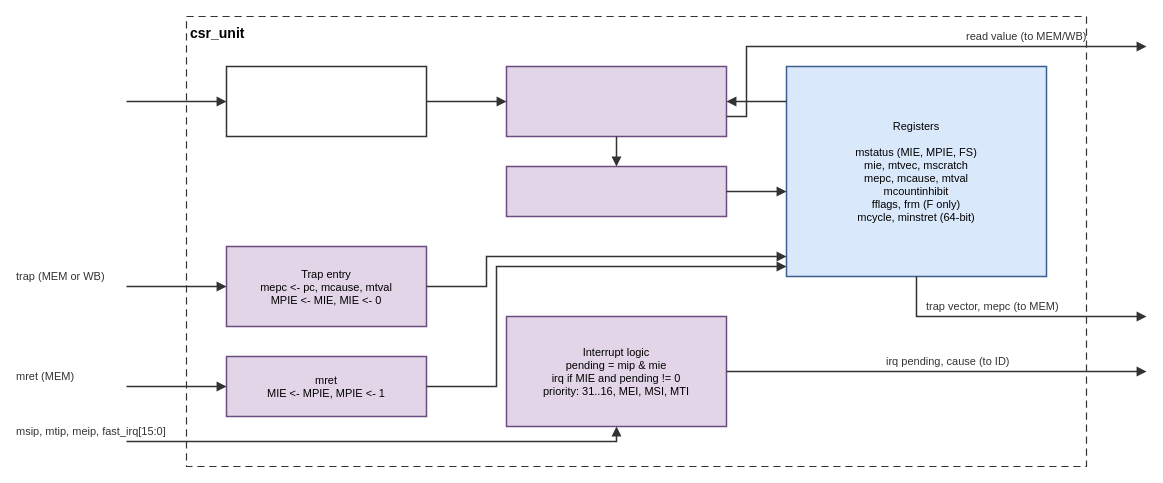
This 1163x483 diagram has some shape labels left out. The centre of each missing label's shape, as x and y in pixels:
"CSR instruction in MEM address, op (W/S/C), source (rs1 or uimm)" goes at [326,101].
"Read multiplexer mstatus, misa, mie, mip, mtvec, mepc, mcause, mtval, counters" goes at [616,101].
"Write data W: src S: old | src C: old & ~src" goes at [616,191].
